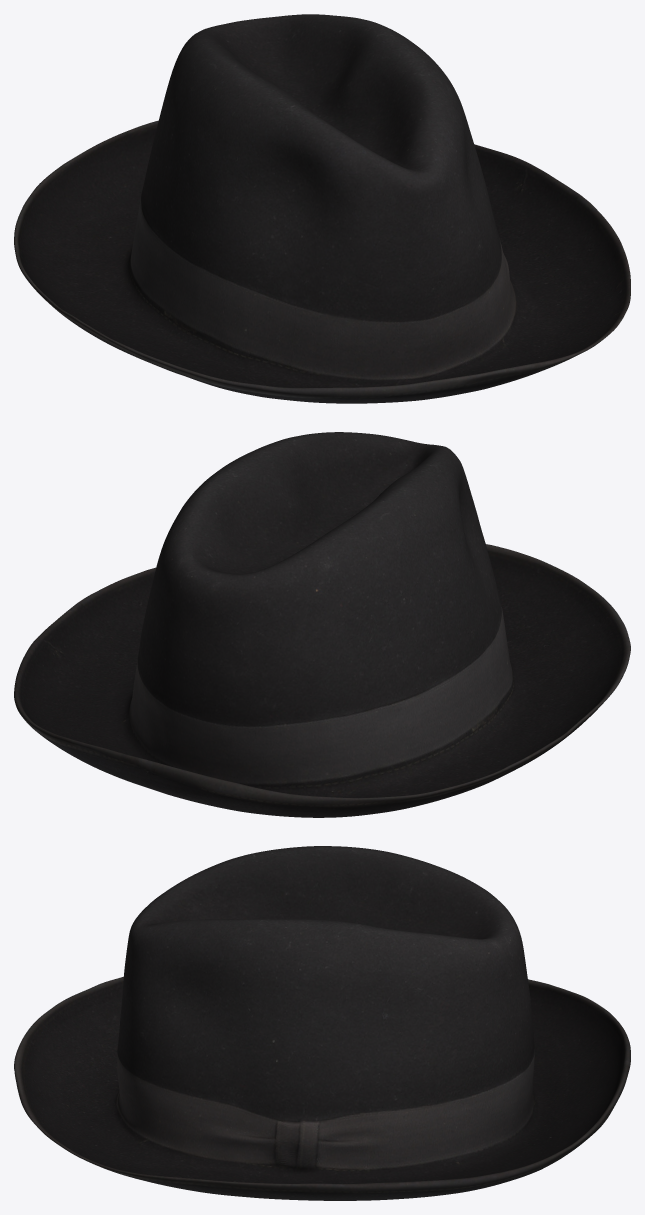
Rendered from hat.glb.
The picture shows the model from 3 angles, top to bottom: view 1: azimuth 30°, elevation 25°; view 2: azimuth 150°, elevation 25°; view 3: azimuth 270°, elevation 25°; orthographic projection. The views are drawn at different scales.
Parts seen in each view (by area): view 1: hat; view 2: hat; view 3: hat.
Boxes of the visible parts, <box> form: hat: <box>14,14,630,403</box>; hat: <box>14,432,630,817</box>; hat: <box>14,846,630,1200</box>.
Bounding box in the file's own units: 0.2958 × 0.1346 × 0.3301.
1 material, 1 textured.
